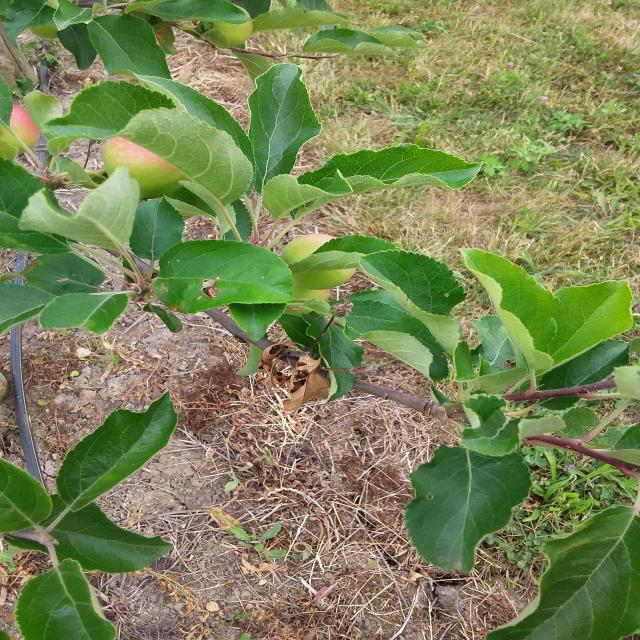-FireBlight-: (258, 345, 324, 404)
